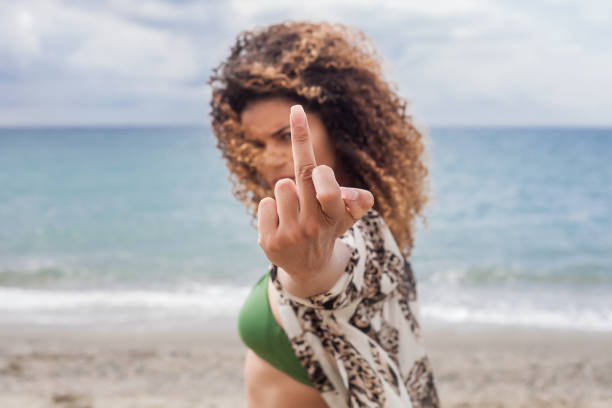insulting_gesture: (255, 104, 374, 279)
